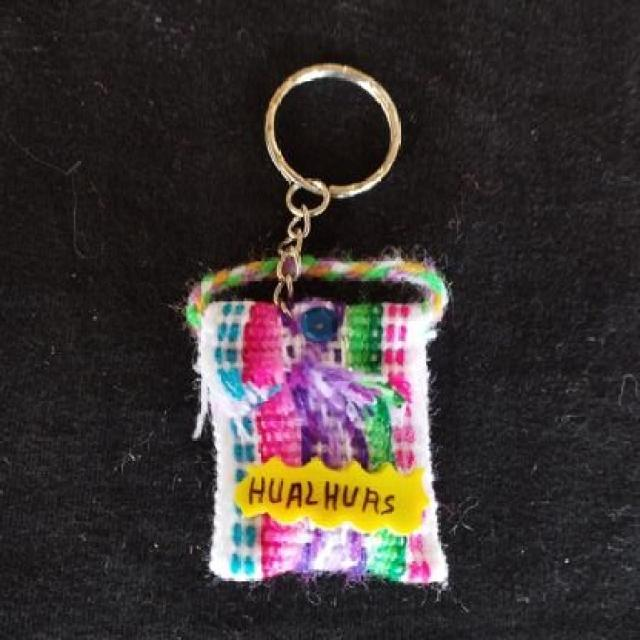Llavero: (184, 253, 451, 589)
